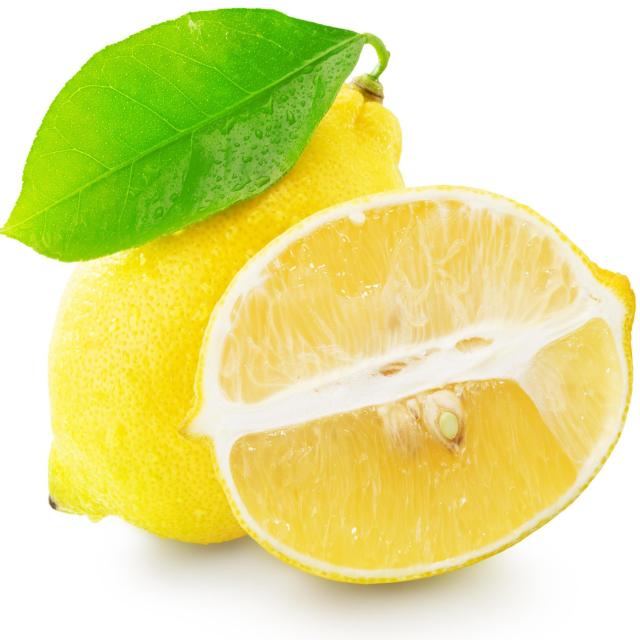lemon: (170, 180, 638, 594)
